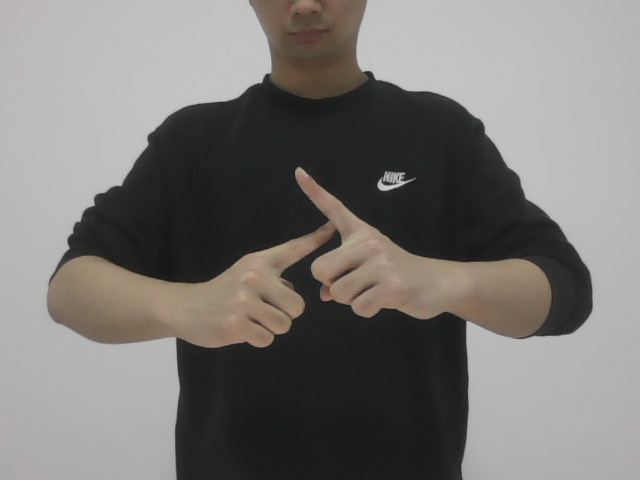peason: (202, 162, 423, 350)
